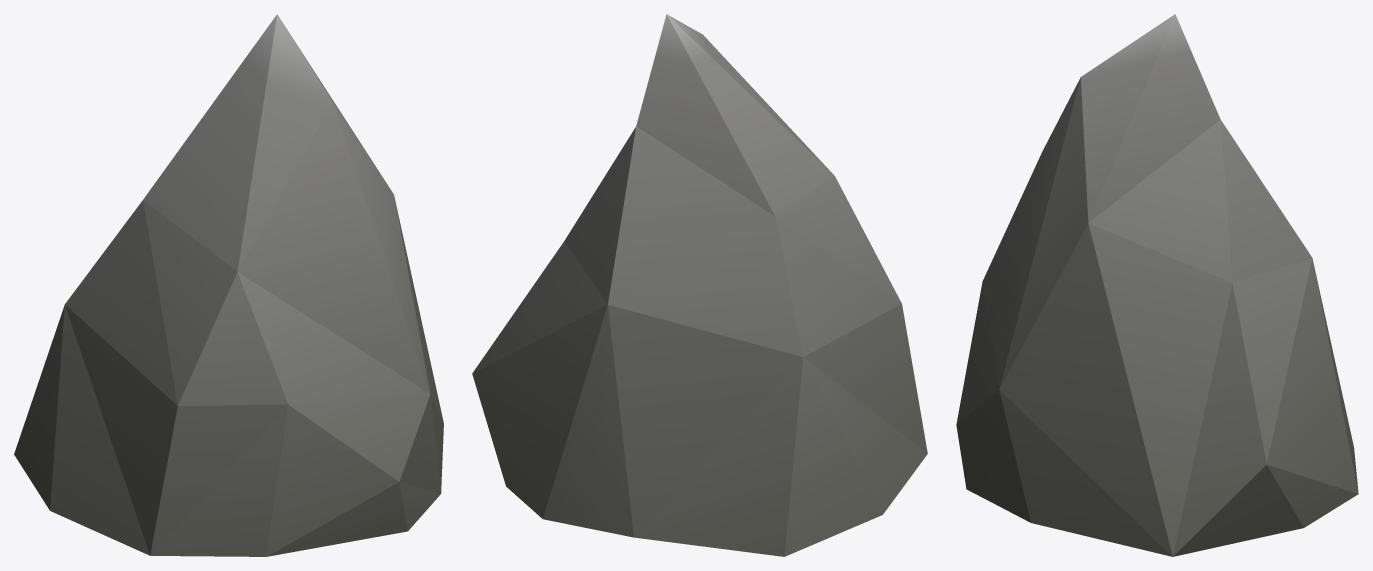
File: Mountain_06.fbx
3 renders of one model, left to right at view 1: azimuth 30°, elevation 25°; view 2: azimuth 150°, elevation 25°; view 3: azimuth 270°, elevation 25°, orthographic. The views are drawn at different scales.
Visible parts, largest first — view 1: Mountain_06; view 2: Mountain_06; view 3: Mountain_06.
Boxes of the visible parts, box(x1,y1,x2,y2) form: Mountain_06: box(14, 14, 443, 556); Mountain_06: box(472, 14, 927, 556); Mountain_06: box(956, 14, 1358, 556).
Bounding box in the file's own units: 17.77 × 19.86 × 15.58.
